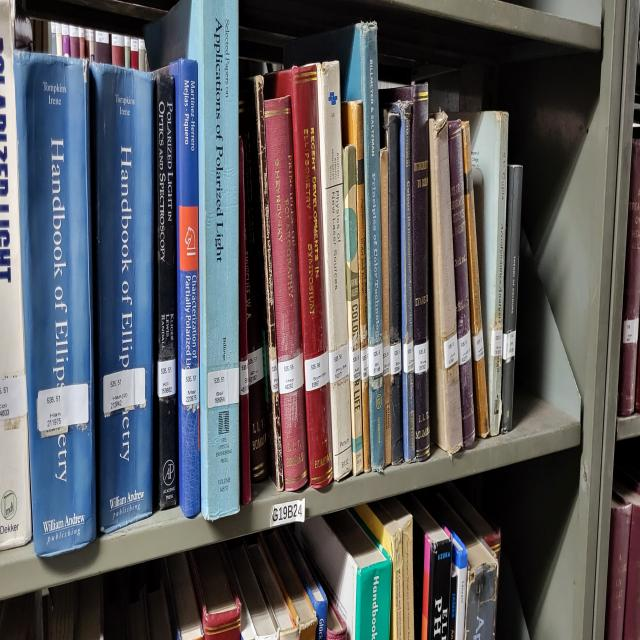Book: (144, 0, 240, 519), (14, 51, 96, 555), (300, 24, 385, 473), (91, 62, 154, 533), (270, 65, 332, 487), (264, 95, 308, 490), (465, 111, 509, 436), (169, 60, 200, 517), (318, 60, 351, 479), (399, 84, 430, 460), (429, 111, 462, 455), (341, 103, 371, 471), (154, 68, 179, 509), (242, 127, 268, 482), (461, 122, 490, 438), (449, 119, 475, 446), (342, 143, 364, 476), (386, 111, 404, 465), (398, 100, 415, 460), (500, 165, 522, 433), (239, 138, 251, 503)
Label: (35, 387, 90, 430), (202, 361, 240, 406), (100, 373, 146, 409), (0, 373, 28, 419), (277, 358, 305, 392), (501, 328, 521, 373), (156, 358, 178, 398), (305, 352, 327, 392), (367, 336, 385, 383), (442, 334, 462, 374), (181, 365, 197, 410), (413, 340, 428, 382), (458, 330, 473, 371), (248, 346, 264, 384), (474, 325, 486, 370), (328, 352, 348, 378), (489, 327, 502, 366), (358, 341, 369, 382), (390, 338, 400, 381), (349, 346, 361, 381), (403, 342, 416, 372), (381, 336, 391, 374), (239, 357, 249, 395)
